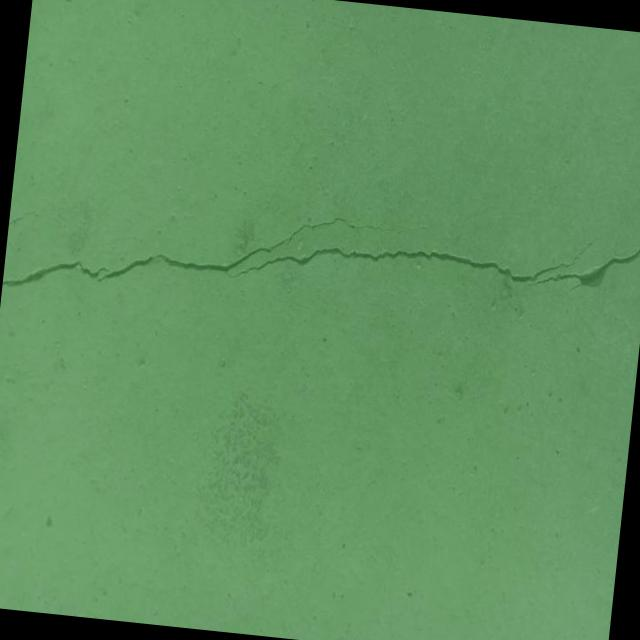crack: (1, 181, 640, 354), (8, 208, 43, 228), (396, 222, 424, 235)
